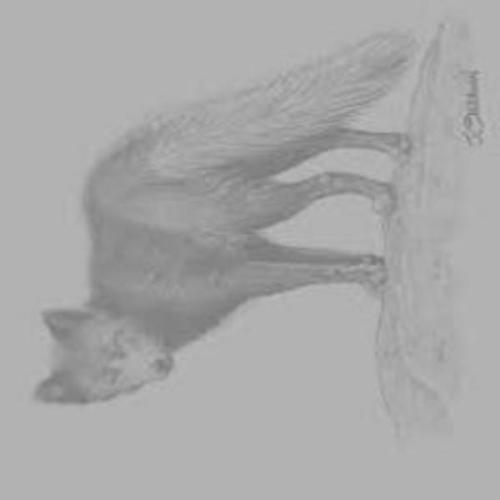arctic_fox-endangered: (30, 30, 418, 404)
